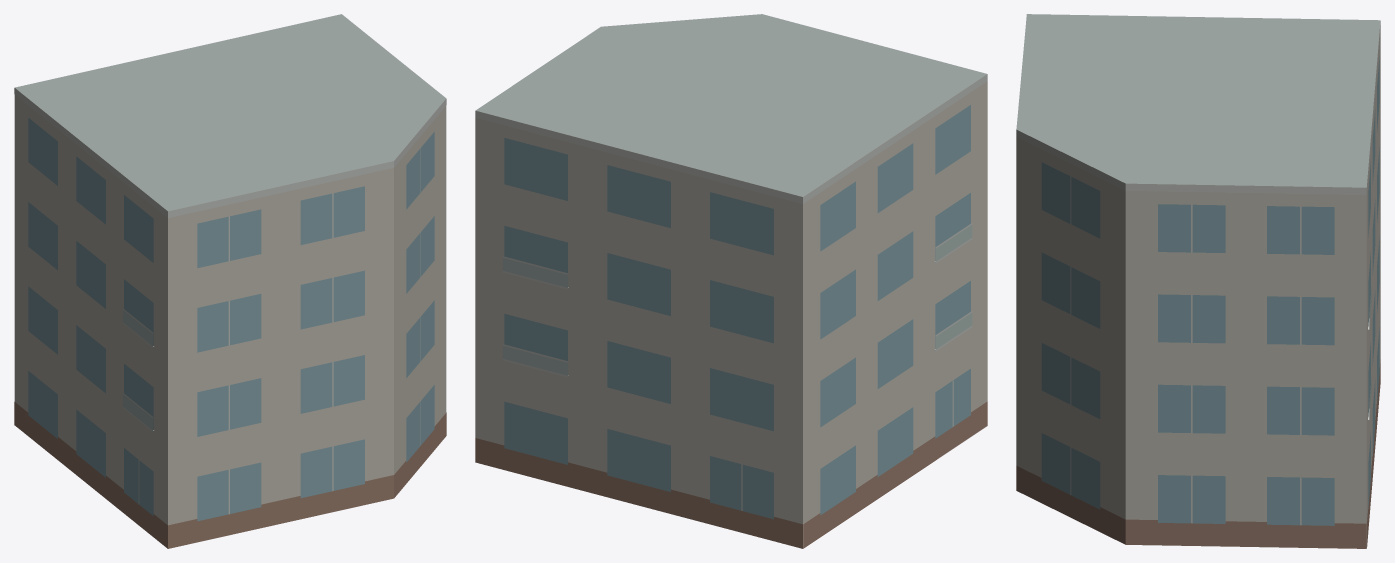
File: survey-upis-32553840.glb
3 views of the same model, side by side, from view 1: azimuth 30°, elevation 25°; view 2: azimuth 150°, elevation 25°; view 3: azimuth 270°, elevation 25° (orthographic). The views are drawn at different scales.
Parts seen in each view (by area): view 1: survey-upis-32553840.tmp; view 2: survey-upis-32553840.tmp; view 3: survey-upis-32553840.tmp.
Part boxes in pixels (x1=…): survey-upis-32553840.tmp: x1=14, y1=14, x2=446, y2=548; survey-upis-32553840.tmp: x1=475, y1=14, x2=987, y2=548; survey-upis-32553840.tmp: x1=1016, y1=14, x2=1380, y2=548.
Bounding box in the file's own units: 12.64 × 12.25 × 11.21.
